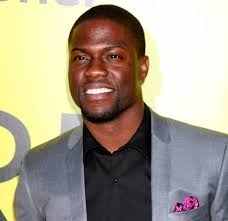black_male: (59, 1, 149, 135)
